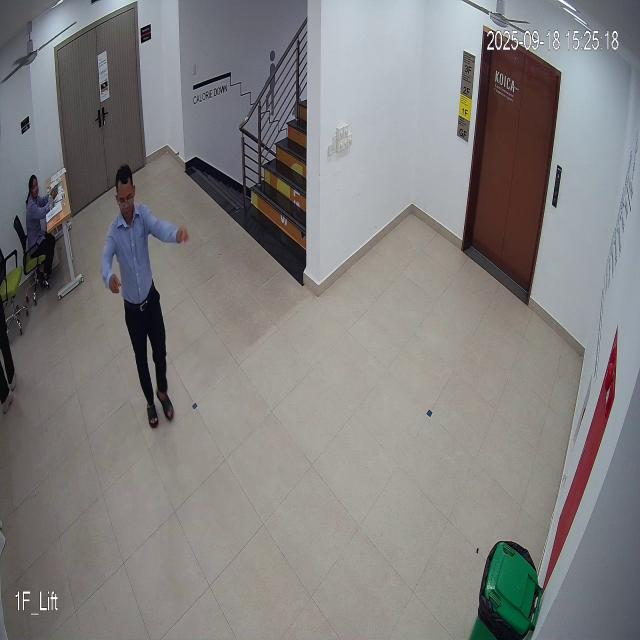face: (112, 160, 139, 226)
